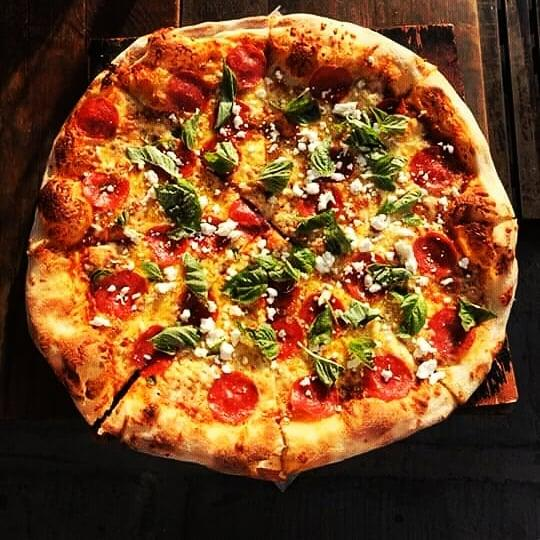Basil: (174, 121, 239, 173), (227, 261, 288, 304), (152, 182, 201, 234), (349, 106, 405, 151), (172, 244, 211, 307), (214, 62, 243, 139), (126, 146, 180, 178), (147, 326, 199, 354), (277, 94, 327, 121), (361, 151, 398, 185), (289, 212, 337, 237), (376, 191, 420, 218), (247, 321, 277, 360), (402, 292, 429, 335), (252, 157, 290, 187), (312, 301, 334, 349), (367, 261, 410, 285), (457, 301, 493, 328), (301, 144, 336, 170), (324, 226, 350, 257), (344, 301, 372, 326), (297, 247, 316, 271)
Pepperoni: (427, 306, 477, 366), (407, 144, 460, 197), (134, 219, 191, 268), (124, 324, 175, 375), (211, 374, 256, 431), (411, 234, 460, 286), (291, 374, 344, 420), (92, 272, 148, 314), (67, 101, 121, 143), (81, 167, 126, 215), (356, 354, 408, 395), (341, 254, 386, 299), (262, 314, 306, 360), (224, 34, 268, 79), (171, 67, 209, 114), (297, 291, 342, 328), (184, 214, 223, 255), (156, 139, 194, 180), (211, 101, 251, 133), (227, 197, 266, 226), (202, 136, 233, 171)
Pizza: (31, 19, 513, 468)
